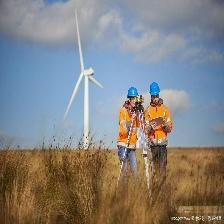Person: (143, 81, 173, 189), (117, 87, 139, 192)
helmet: (149, 81, 160, 96), (127, 87, 139, 100)
vest: (146, 102, 173, 147), (119, 109, 140, 151)
